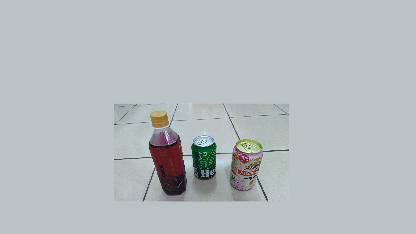Can: (230, 138, 262, 192), (191, 136, 217, 180)
Plastic Bottle: (148, 110, 188, 196)
